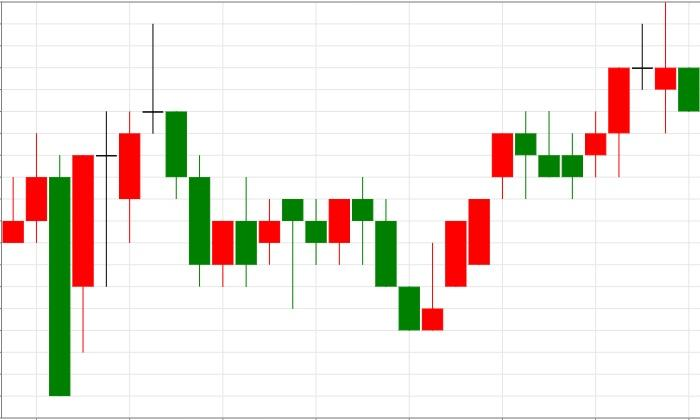evening_star_fall: (49, 22, 187, 396)
inverse_hammer_rise: (352, 176, 443, 332)
